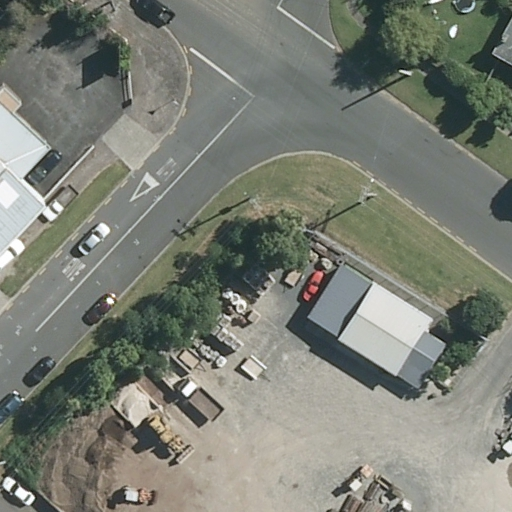DT: (358, 186, 378, 203), (241, 195, 261, 208)
